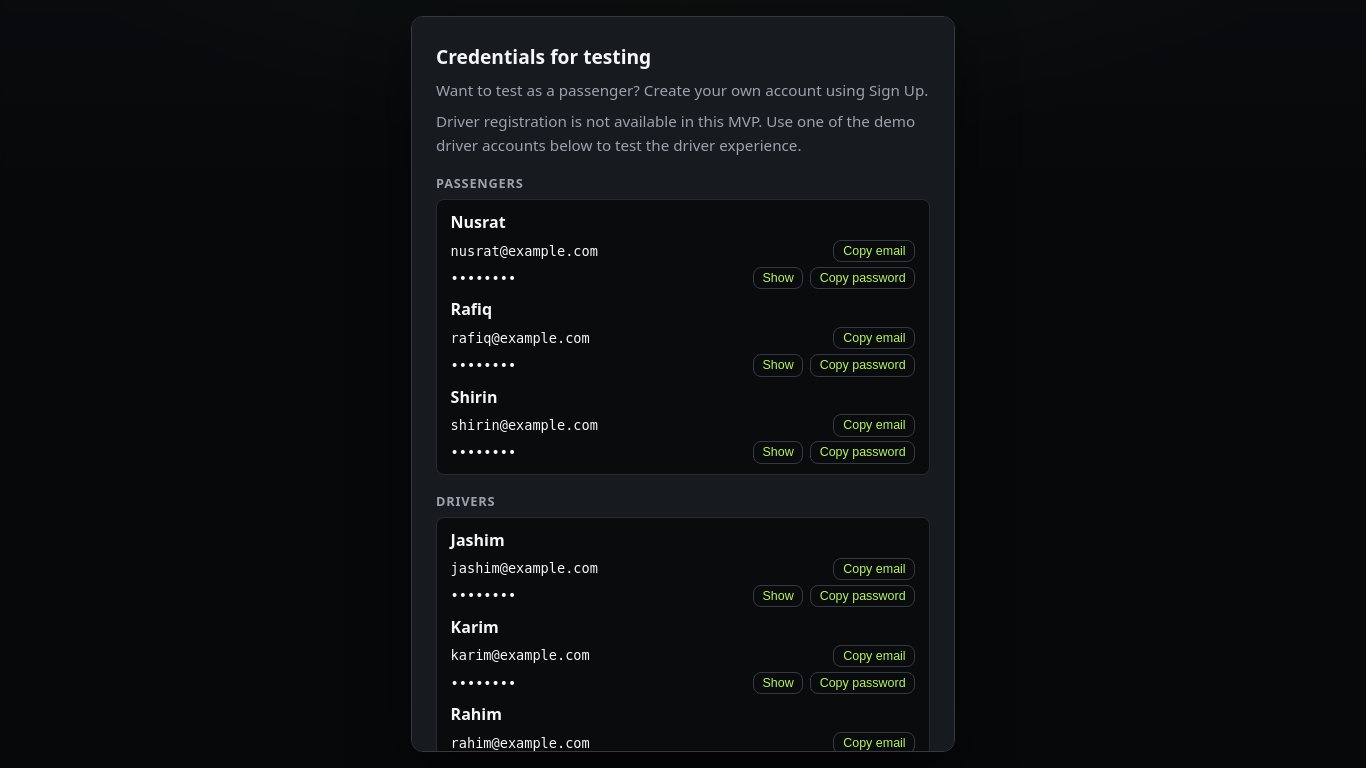
Scenario: CredentialsModal › copies an email and confirms it
What coordinates should you click on to do the following:
click the button "Copy email" in the row of "rafiq@example.com"
I would click on:
 (874, 338)
Its box is [833,327,915,349].
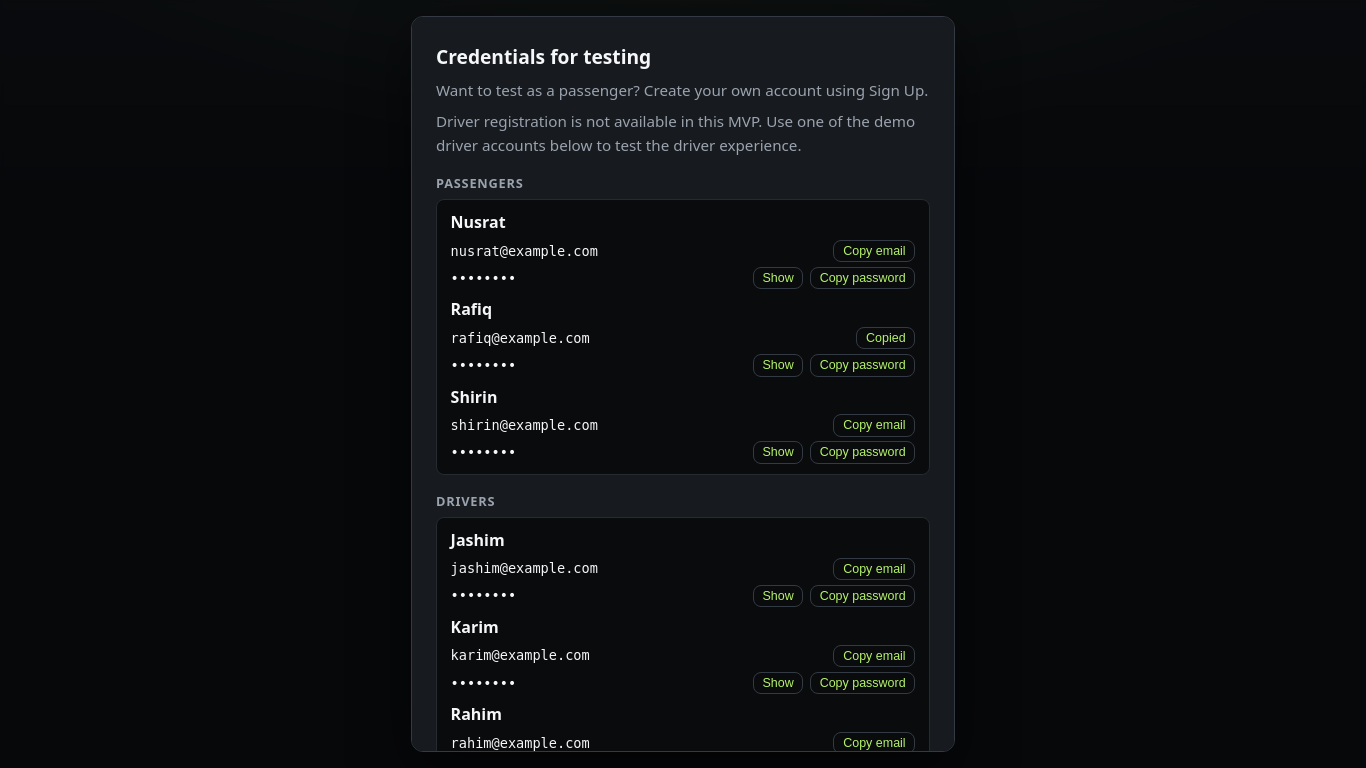
Result: the button "Copied" is shown at [856,327,915,349]
